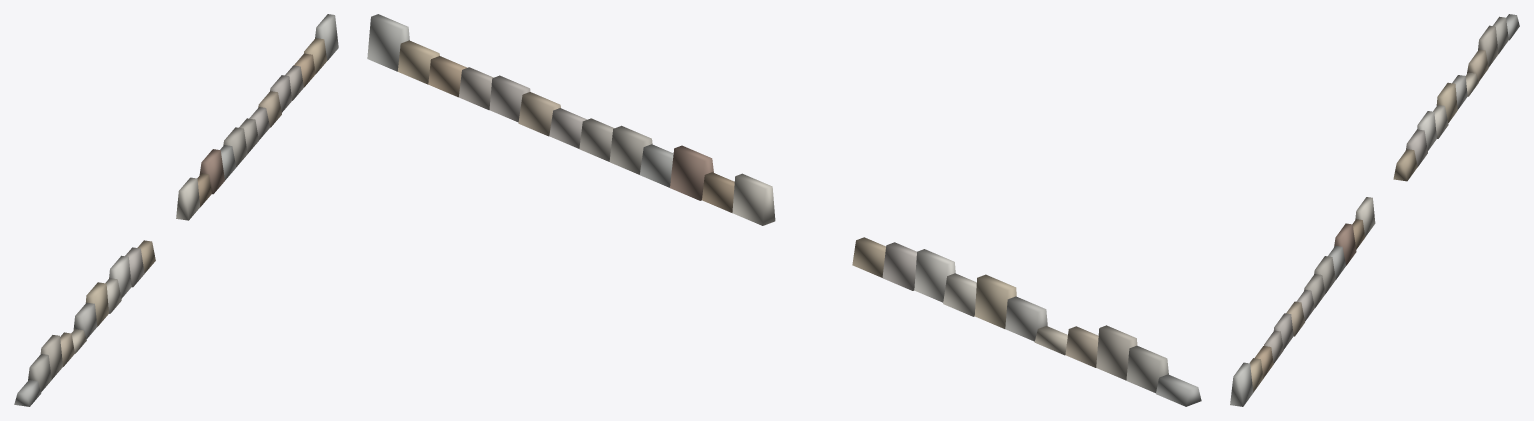
Rendered from farm_10_20_collision.glb.
3 renders of one model, left to right at view 1: azimuth 90°, elevation 25°; view 2: azimuth 150°, elevation 25°; view 3: azimuth 270°, elevation 25°, orthographic. The views are drawn at different scales.
Parts seen in each view (by area): view 1: geometry_0; view 2: geometry_0; view 3: geometry_0.
Boxes of the visible parts, <box> form: geometry_0: <box>14,14,338,406</box>; geometry_0: <box>367,14,1201,406</box>; geometry_0: <box>1230,14,1519,406</box>.
Bounding box in the file's own units: 40.38 × 2.95 × 14.03.
